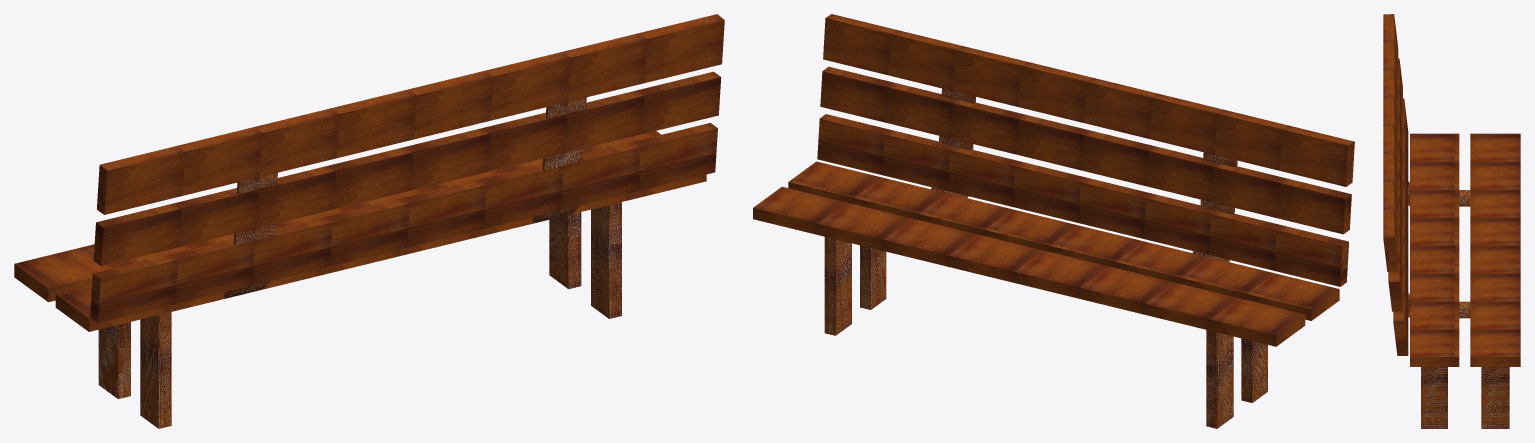
3 renders of one model, left to right at view 1: azimuth 30°, elevation 25°; view 2: azimuth 150°, elevation 25°; view 3: azimuth 270°, elevation 25°, orthographic. The views are drawn at different scales.
Visible parts, largest first — view 1: mesh1_mesh1-geometry; view 2: mesh1_mesh1-geometry; view 3: mesh1_mesh1-geometry.
Boxes of the visible parts, x1,y1,x2,y2 form: mesh1_mesh1-geometry: [14, 14, 724, 428]; mesh1_mesh1-geometry: [753, 14, 1354, 428]; mesh1_mesh1-geometry: [1383, 14, 1520, 428].
Bounding box in the file's own units: 0.8846 × 0.4055 × 0.2303.
